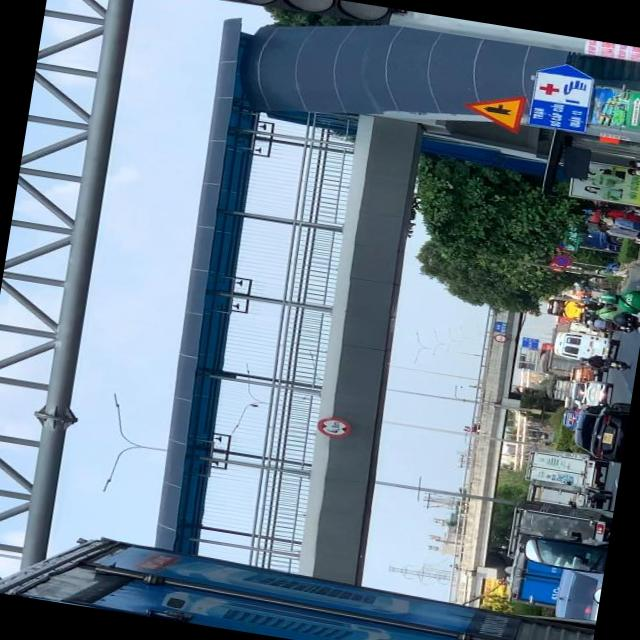W-207b: (461, 86, 527, 135)
